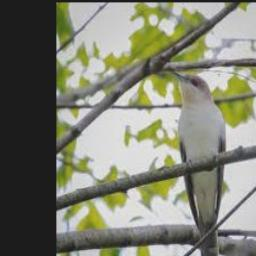Cuckoo: (170, 71, 225, 256)
